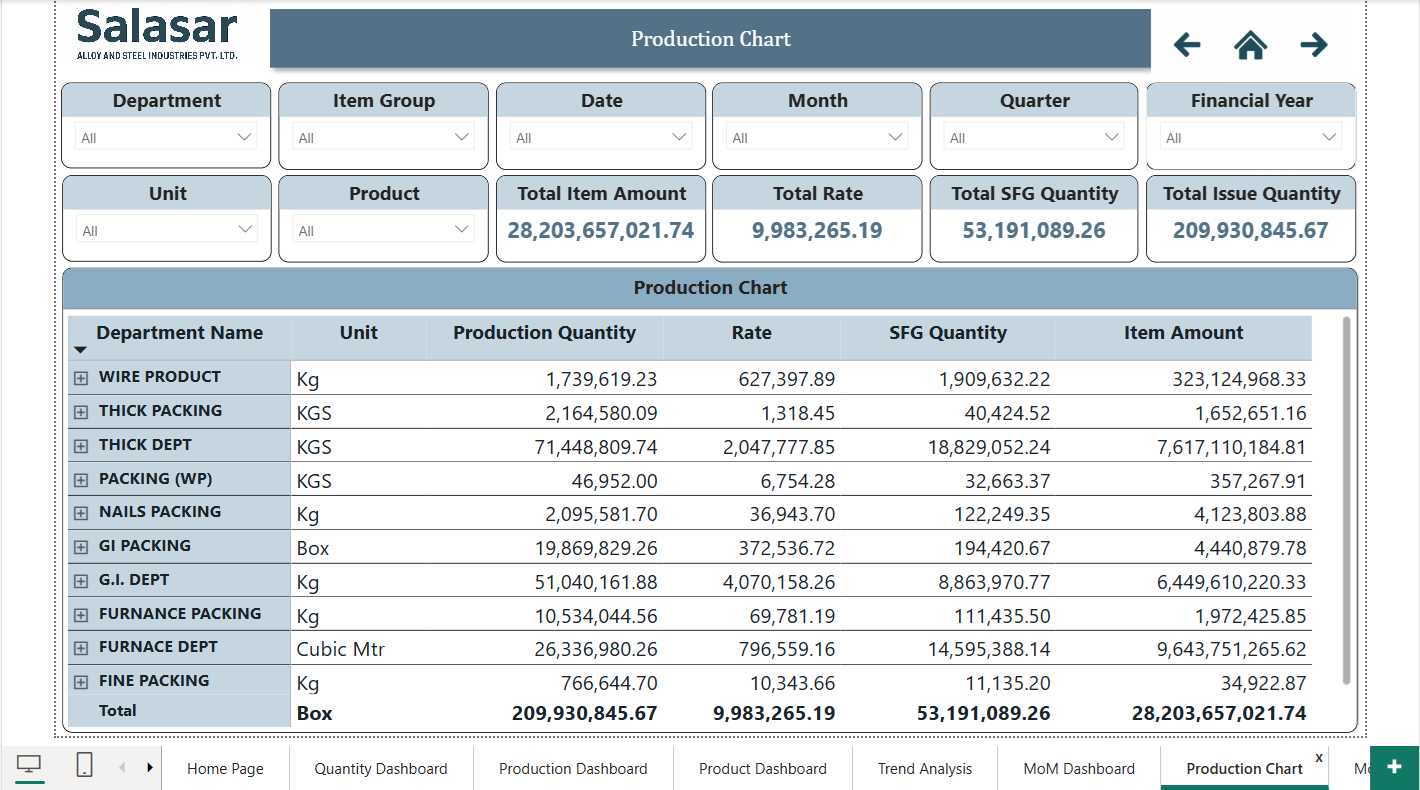

This screenshot's page, from the dashboard's own definition file:
{"tool":"powerbi","page":{"name":"Production Chart","canvas":[1280,720],"ordinal":6},"visuals":[{"type":"image","box":[1128.7,3.8,80,80],"z":0,"group":"g1"},{"type":"pivotTable","title":"Production Chart","fields":{"Rows":["Sheet 1.Department Name","Sheet 1.Item Group Name","Sheet 1.Item Name"],"Values":["Min(Sheet 1.unit)","Sum(Sheet 1.Issue Quantity)","Sum(Sheet 1.Rate)","Sum(Sheet 1.SFG Quantity)","Sum(Sheet 1.ItemAmount)"]},"box":[6.1,261.7,1266.9,455],"z":0},{"type":"image","box":[1066.2,3.8,80,80],"z":1000,"group":"g1"},{"type":"slicer","title":"Department","fields":{"Values":["Sheet 1.Department Name"]},"box":[4.9,81,205.4,84.4],"z":1000},{"type":"image","box":[1191.2,3.8,80,80],"z":2000,"group":"g1"},{"type":"slicer","title":"Item Group","fields":{"Values":["Sheet 1.Item Group Name"]},"box":[217.4,81,205.4,85.6],"z":2000},{"type":"slicer","title":"Date","fields":{"Values":["Sheet 1.Doc Date"]},"box":[429.9,81,205.4,85.6],"z":3000},{"type":"slicer","title":"Month","fields":{"Values":["Calendar.Month"]},"box":[642.5,81,205.4,85.6],"z":4000},{"type":"slicer","title":"Quarter","fields":{"Values":["Calendar.Qtr"]},"box":[855,81,204.2,85.6],"z":5000},{"type":"slicer","title":"Financial Year","fields":{"Values":["Calendar.Fiscal Year"]},"box":[1066.3,81,205.4,85.6],"z":6000},{"type":"slicer","title":"Unit","fields":{"Values":["Sheet 1.unit"]},"box":[6.1,171,205,85],"z":7000},{"type":"card","title":"Total Item Amount ","fields":{"Values":["Sum(Sheet 1.ItemAmount)"]},"box":[430.4,171,205.4,85.6],"z":8000},{"type":"card","title":"Total Rate","fields":{"Values":["Sum(Sheet 1.Rate)"]},"box":[642,171,205.4,85.6],"z":9000},{"type":"card","title":"Total SFG Quantity","fields":{"Values":["Sum(Sheet 1.SFG Quantity)"]},"box":[854.8,171,204.2,85.6],"z":10000},{"type":"card","title":"Total Issue Quantity","fields":{"Values":["Sum(Sheet 1.Issue Quantity)"]},"box":[1066.3,171,205.4,85.6],"z":11000},{"type":"slicer","title":"Product","fields":{"Values":["Sheet 1.Product Name"]},"box":[217.7,171,205.4,85.6],"z":12000},{"type":"shape","box":[200,0,880,75],"z":13000},{"type":"image","box":[0,0,199.3,66],"z":14000},{"type":"group","id":"g1","title":"Group 1","box":[1066.2,3.8,205,80],"z":15000}]}

Visuals, with their boxes on the page's 1280x720 design canvas (x1, y1, x2, y2). These are canvas units, not pixel positions in the 1420x790 screenshot, which may show the page scaled, cropped or inside an application window:
image: Rect(1129, 4, 1209, 84)
"Production Chart" pivotTable: Rect(6, 262, 1273, 717)
image: Rect(1066, 4, 1146, 84)
"Department" slicer: Rect(5, 81, 210, 165)
image: Rect(1191, 4, 1271, 84)
"Item Group" slicer: Rect(217, 81, 423, 167)
"Date" slicer: Rect(430, 81, 635, 167)
"Month" slicer: Rect(642, 81, 848, 167)
"Quarter" slicer: Rect(855, 81, 1059, 167)
"Financial Year" slicer: Rect(1066, 81, 1272, 167)
"Unit" slicer: Rect(6, 171, 211, 256)
"Total Item Amount " card: Rect(430, 171, 636, 257)
"Total Rate" card: Rect(642, 171, 847, 257)
"Total SFG Quantity" card: Rect(855, 171, 1059, 257)
"Total Issue Quantity" card: Rect(1066, 171, 1272, 257)
"Product" slicer: Rect(218, 171, 423, 257)
shape: Rect(200, 0, 1080, 75)
image: Rect(0, 0, 199, 66)
"Group 1" group: Rect(1066, 4, 1271, 84)
